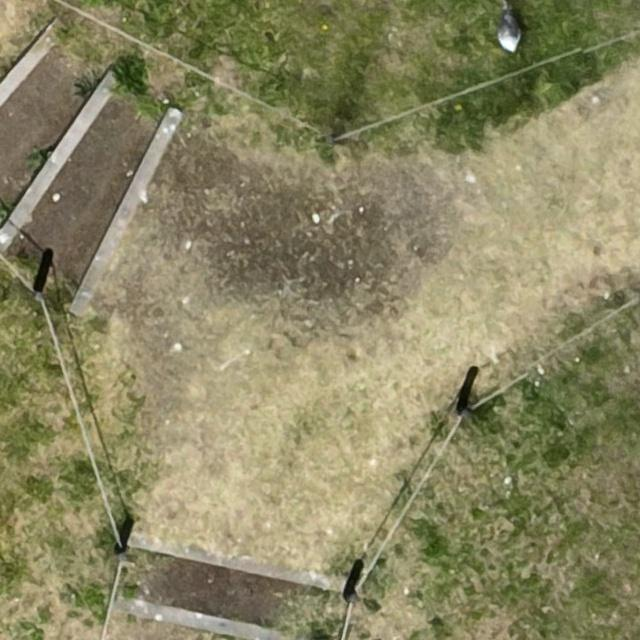umineko: (499, 12, 520, 50)
